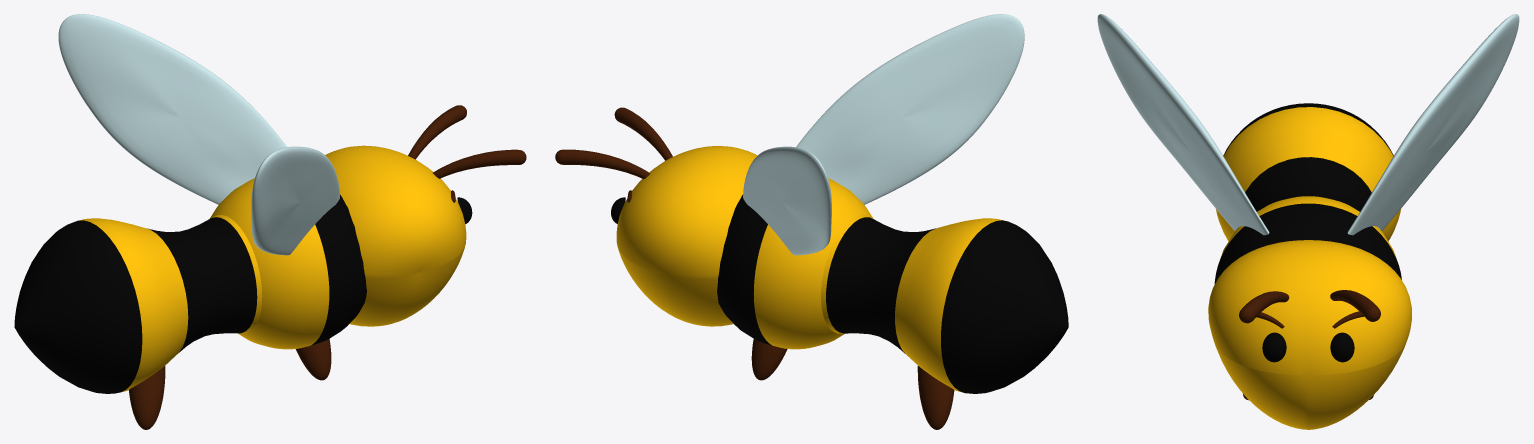
Rendered from wasp.fbx.
3 views of the same model, side by side, from view 1: azimuth 30°, elevation 25°; view 2: azimuth 150°, elevation 25°; view 3: azimuth 270°, elevation 25° (orthographic). The views are drawn at different scales.
Parts seen in each view (by area): view 1: Objeto_11, Objeto_6, Objeto_1, Objeto_4, Objeto_3, Objeto_2, Objeto_12, Objeto_5, Objeto_15, Objeto_7, Objeto_16, Objeto_8; view 2: Objeto_12, Objeto_6, Objeto_1, Objeto_4, Objeto_3, Objeto_11, Objeto_2, Objeto_5, Objeto_13, Objeto_8, Objeto_14, Objeto_7; view 3: Objeto_6, Objeto_11, Objeto_12, Objeto_2, Objeto_5, Objeto_3, Objeto_4, Objeto_7, Objeto_8, Objeto_1, Objeto_9, Objeto_10.
Boxes of the visible parts, box(x1,y1,x2,y2) form: Objeto_11: box(58, 14, 286, 204); Objeto_6: box(325, 145, 466, 326); Objeto_1: box(14, 220, 142, 393); Objeto_4: box(209, 178, 329, 349); Objeto_3: box(148, 217, 257, 352); Objeto_2: box(79, 218, 188, 392); Objeto_12: box(251, 146, 339, 255); Objeto_5: box(311, 194, 366, 345); Objeto_15: box(129, 366, 165, 429); Objeto_7: box(433, 149, 526, 178); Objeto_16: box(295, 339, 331, 380); Objeto_8: box(408, 105, 466, 159); Objeto_12: box(796, 14, 1024, 204); Objeto_6: box(616, 146, 757, 326); Objeto_1: box(941, 220, 1068, 393); Objeto_4: box(753, 178, 873, 349); Objeto_3: box(826, 217, 935, 353); Objeto_11: box(743, 146, 831, 255); Objeto_2: box(895, 218, 1003, 392); Objeto_5: box(717, 195, 771, 345); Objeto_13: box(917, 366, 954, 429); Objeto_8: box(555, 149, 650, 179); Objeto_14: box(751, 339, 787, 380); Objeto_7: box(614, 107, 672, 160); Objeto_6: box(1208, 240, 1411, 429); Objeto_11: box(1347, 14, 1519, 235); Objeto_12: box(1097, 14, 1269, 235); Objeto_2: box(1216, 107, 1400, 241); Objeto_5: box(1214, 203, 1401, 283); Objeto_3: box(1245, 157, 1371, 211); Objeto_4: box(1220, 196, 1397, 261); Objeto_7: box(1239, 291, 1289, 323); Objeto_8: box(1330, 290, 1380, 321); Objeto_1: box(1223, 103, 1393, 155); Objeto_9: box(1330, 332, 1354, 362); Objeto_10: box(1262, 332, 1286, 362).
Size of the model in its own units: 3381 by 2417 by 2038.
